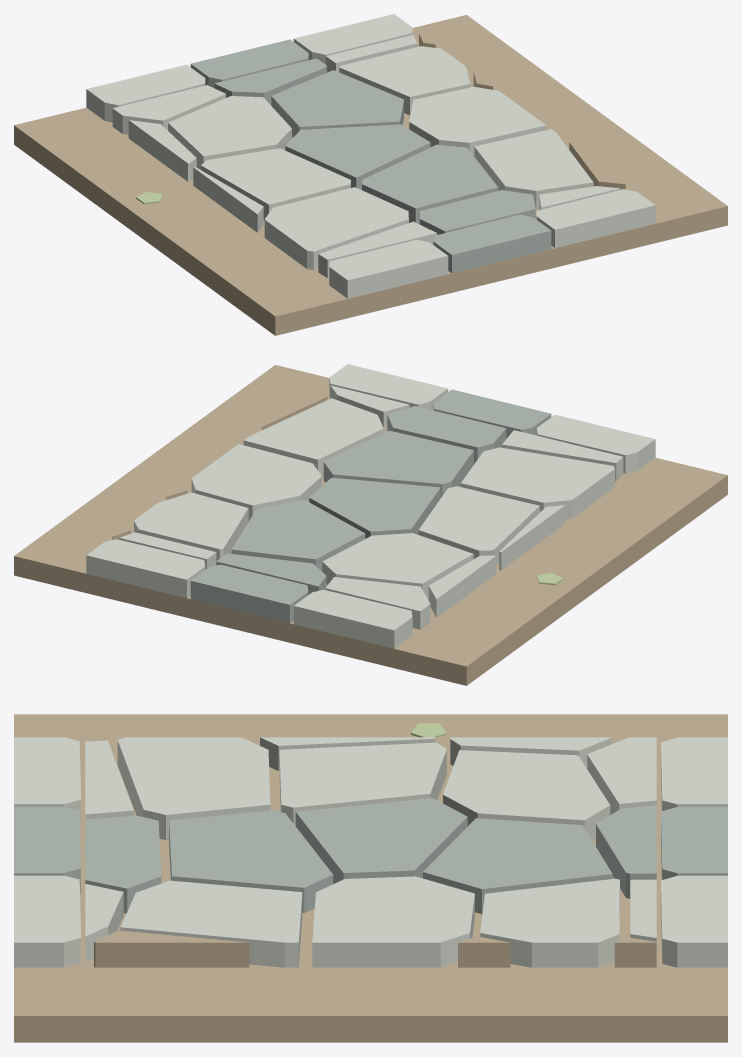
File: world_road_straight.fbx
3 views of the same model, one above another, from view 1: azimuth 30°, elevation 25°; view 2: azimuth 150°, elevation 25°; view 3: azimuth 270°, elevation 25° (orthographic). The views are drawn at different scales.
Visible parts, largest first — view 1: world_road_straight_mesh; view 2: world_road_straight_mesh; view 3: world_road_straight_mesh.
Boxes of the visible parts, x1=… form: world_road_straight_mesh: x1=14, y1=14, x2=727, y2=335; world_road_straight_mesh: x1=14, y1=364, x2=727, y2=685; world_road_straight_mesh: x1=14, y1=714, x2=727, y2=1042.
Size of the model in its own units: 1 by 0.08 by 1.
